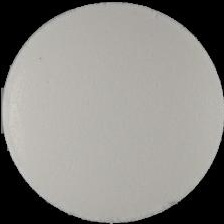0781-1452: (0, 0, 224, 224)
